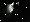person: (4, 6, 12, 18), (12, 4, 19, 13)
